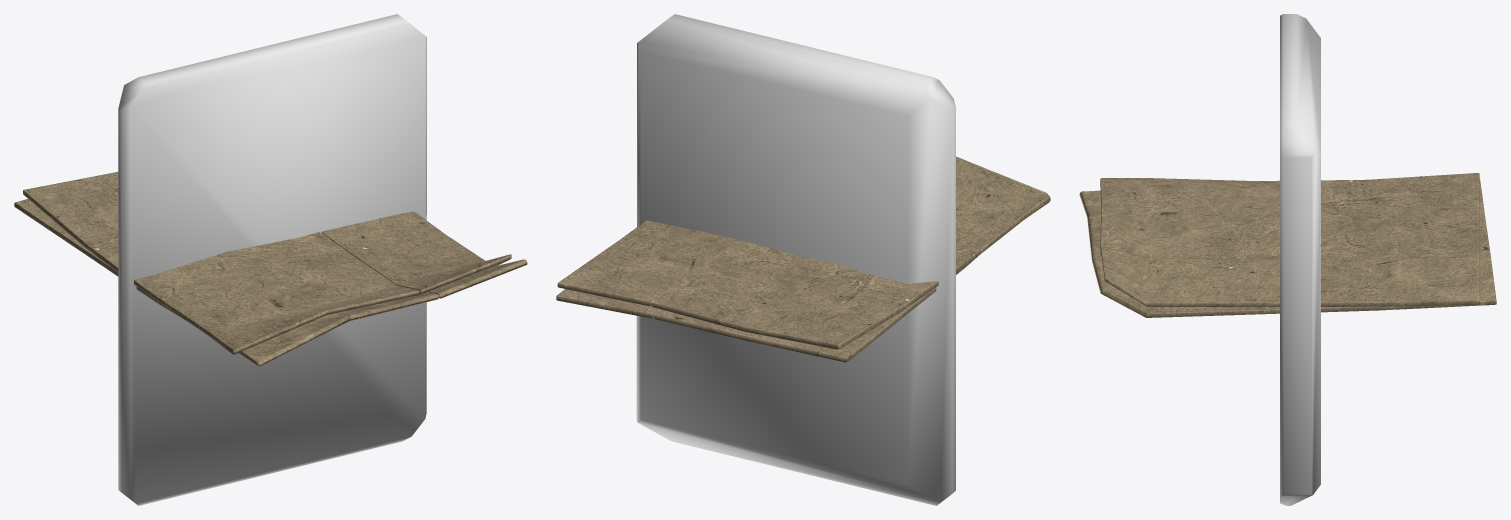
The model's file is SM_Cardboard_Crushed_02.fbx.
3 views of the same model, side by side, from view 1: azimuth 30°, elevation 25°; view 2: azimuth 150°, elevation 25°; view 3: azimuth 270°, elevation 25° (orthographic). The views are drawn at different scales.
Visible parts, largest first — view 1: SM_Cardboard_Crushed_02_ConvexHulls, SM_Cardboard_Crushed_02; view 2: SM_Cardboard_Crushed_02_ConvexHulls, SM_Cardboard_Crushed_02; view 3: SM_Cardboard_Crushed_02, SM_Cardboard_Crushed_02_ConvexHulls.
Boxes of the visible parts, x1=… form: SM_Cardboard_Crushed_02_ConvexHulls: x1=118, y1=14, x2=426, y2=505; SM_Cardboard_Crushed_02: x1=14, y1=172, x2=527, y2=366; SM_Cardboard_Crushed_02_ConvexHulls: x1=636, y1=14, x2=955, y2=505; SM_Cardboard_Crushed_02: x1=556, y1=156, x2=1050, y2=362; SM_Cardboard_Crushed_02: x1=1079, y1=173, x2=1496, y2=317; SM_Cardboard_Crushed_02_ConvexHulls: x1=1280, y1=14, x2=1320, y2=505.
Bounding box in the file's own units: 0.525 × 0.6983 × 0.6963.
